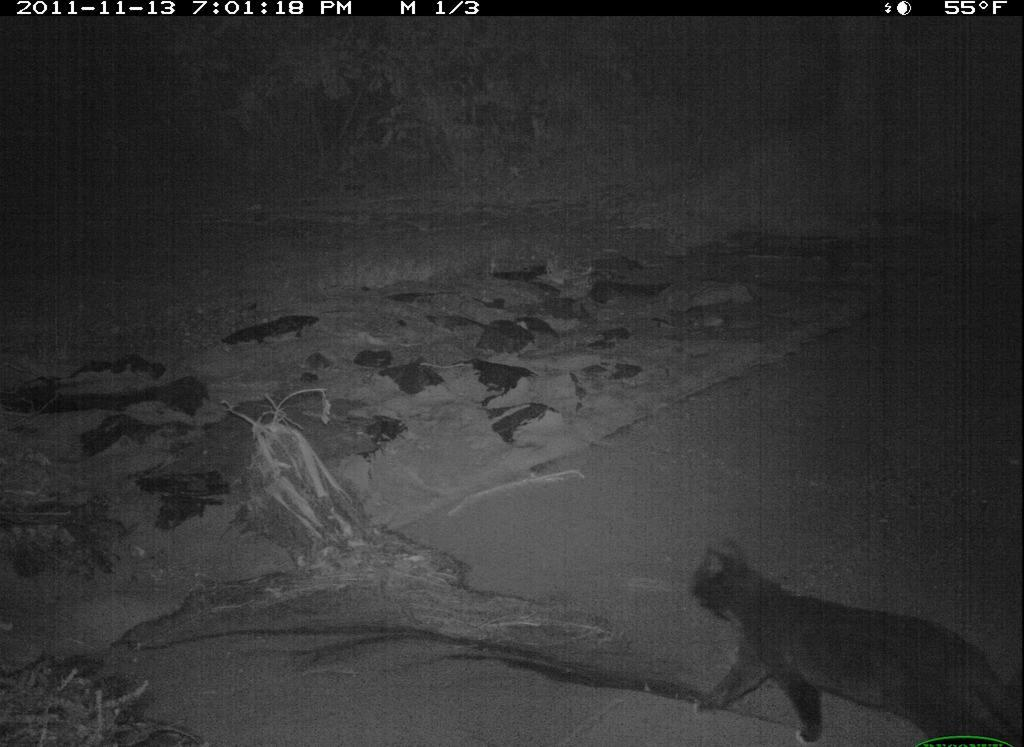cat: (683, 530, 1022, 747)
